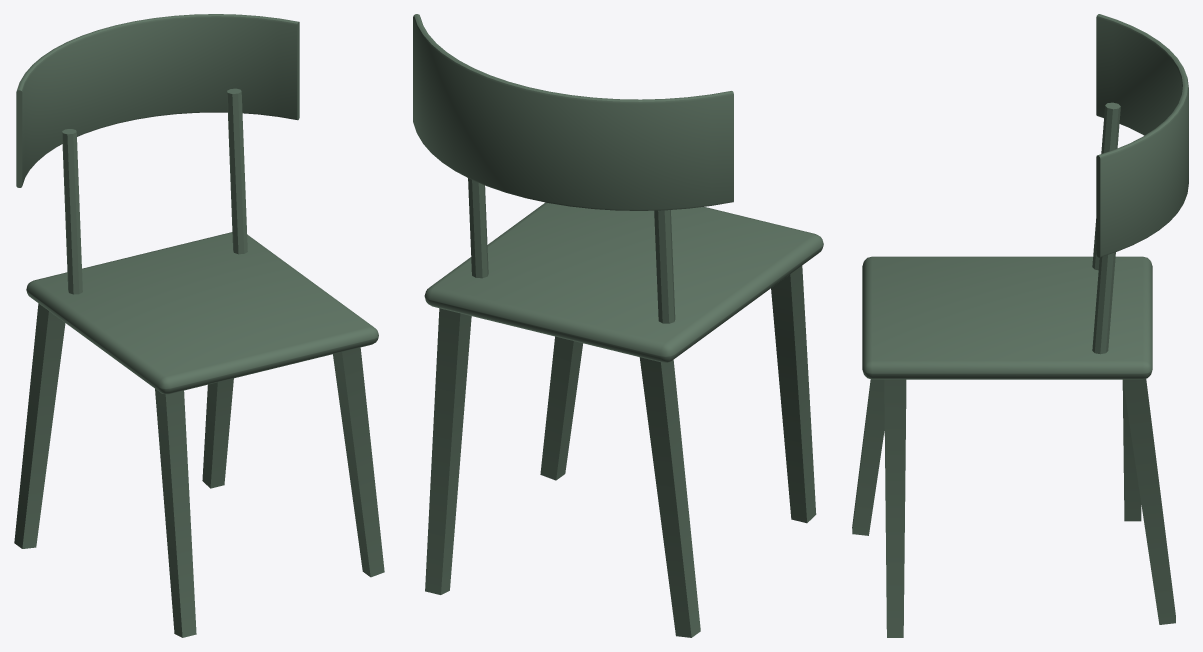
The model's file is silla_metalica_exterior_verde.glb.
3 renders of one model, left to right at view 1: azimuth 30°, elevation 25°; view 2: azimuth 150°, elevation 25°; view 3: azimuth 270°, elevation 25°, orthographic. The views are drawn at different scales.
Parts seen in each view (by area): view 1: silla_metalica_exterior_verde; view 2: silla_metalica_exterior_verde; view 3: silla_metalica_exterior_verde.
Boxes of the visible parts, box(x1,y1,x2,y2) form: silla_metalica_exterior_verde: box(14, 14, 384, 637); silla_metalica_exterior_verde: box(413, 14, 823, 637); silla_metalica_exterior_verde: box(852, 14, 1188, 637).
Size of the model in its own units: 0.5157 by 0.8233 by 0.5106.
